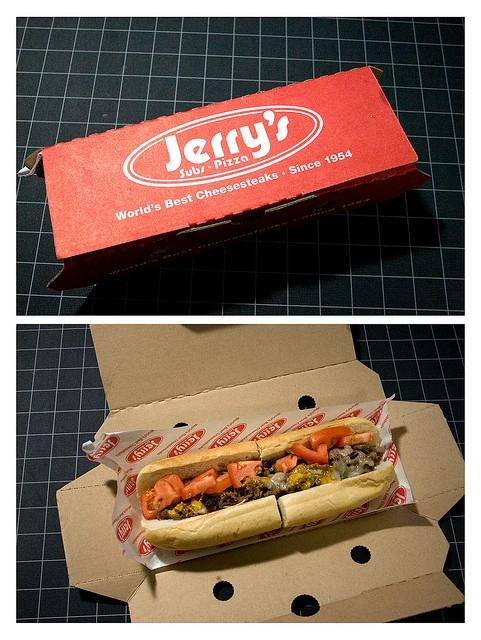tomato: (140, 474, 186, 520), (182, 467, 218, 500), (309, 427, 351, 452), (227, 461, 262, 488), (292, 444, 328, 464), (336, 432, 374, 448), (275, 454, 302, 474), (206, 474, 232, 494)
